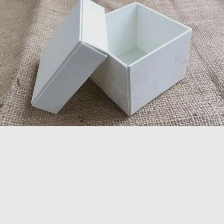book: (75, 0, 195, 118), (25, 0, 112, 117)
